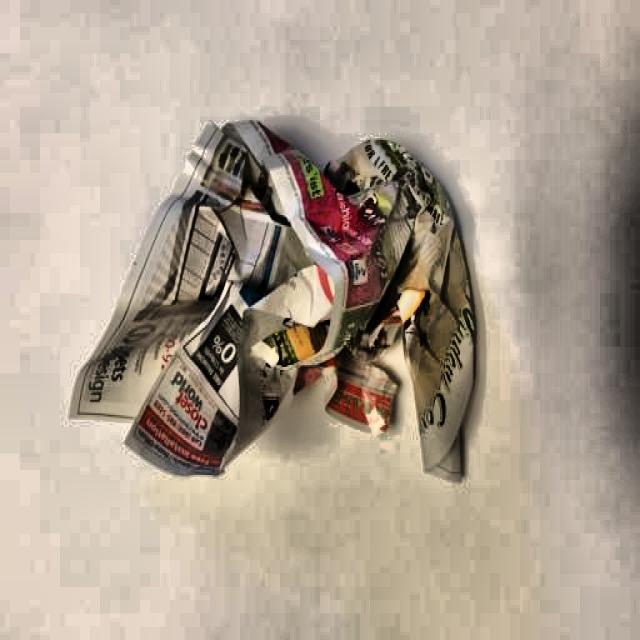paper: (71, 118, 482, 500)
